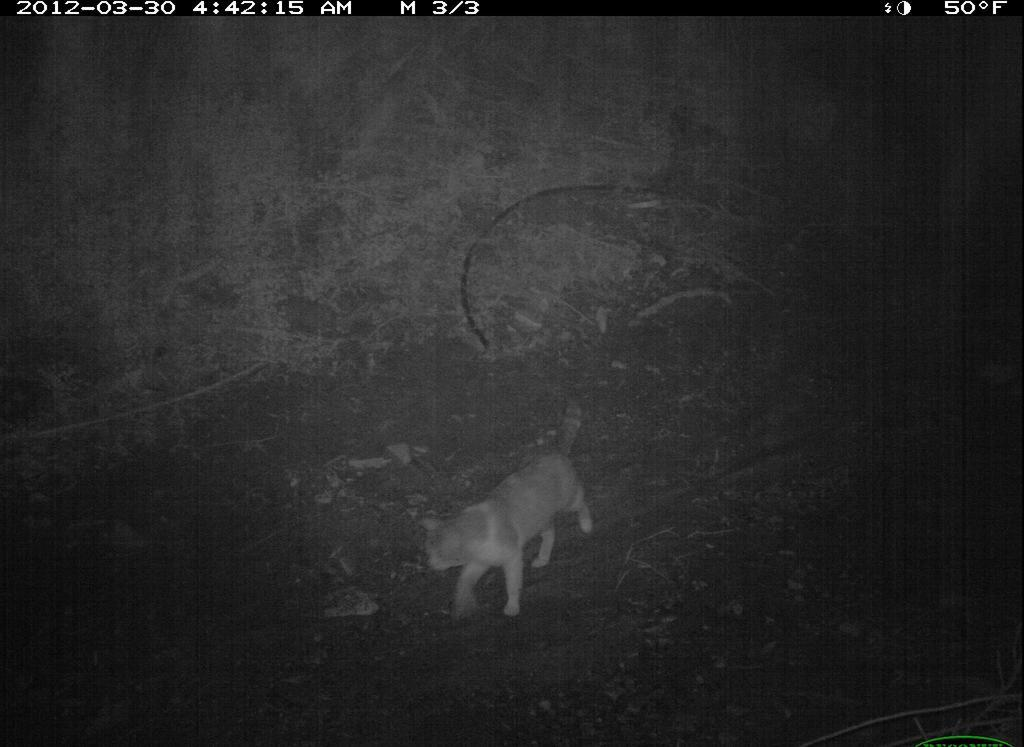cat: (414, 383, 624, 624)
